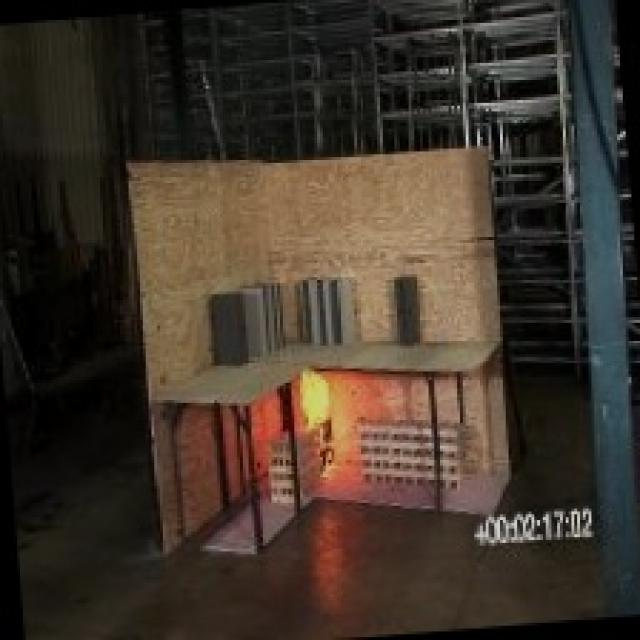fire: (283, 356, 354, 461)
